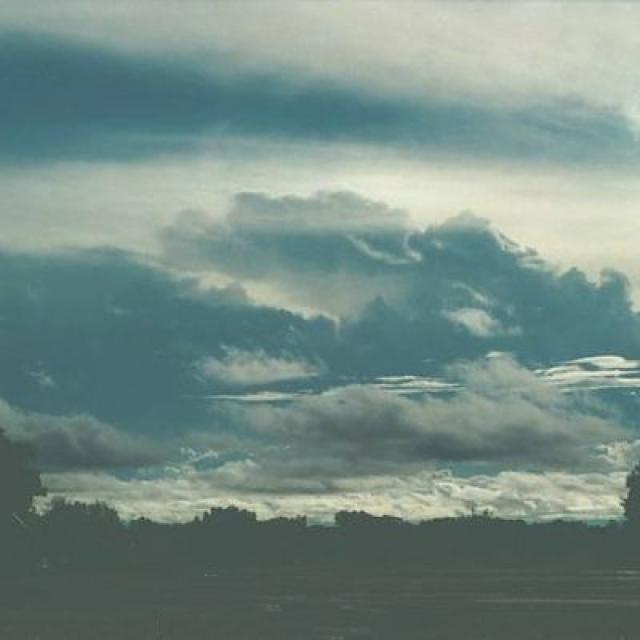St: (1, 109, 640, 512)
